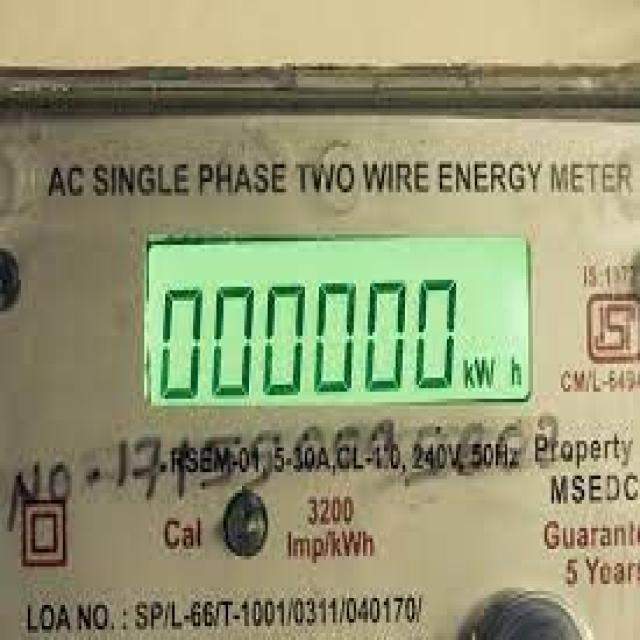0: (204, 264, 258, 403), (258, 263, 310, 402), (361, 259, 412, 396), (310, 260, 362, 393), (412, 258, 462, 394), (156, 266, 204, 402)
Digital meter: (146, 230, 532, 404)
